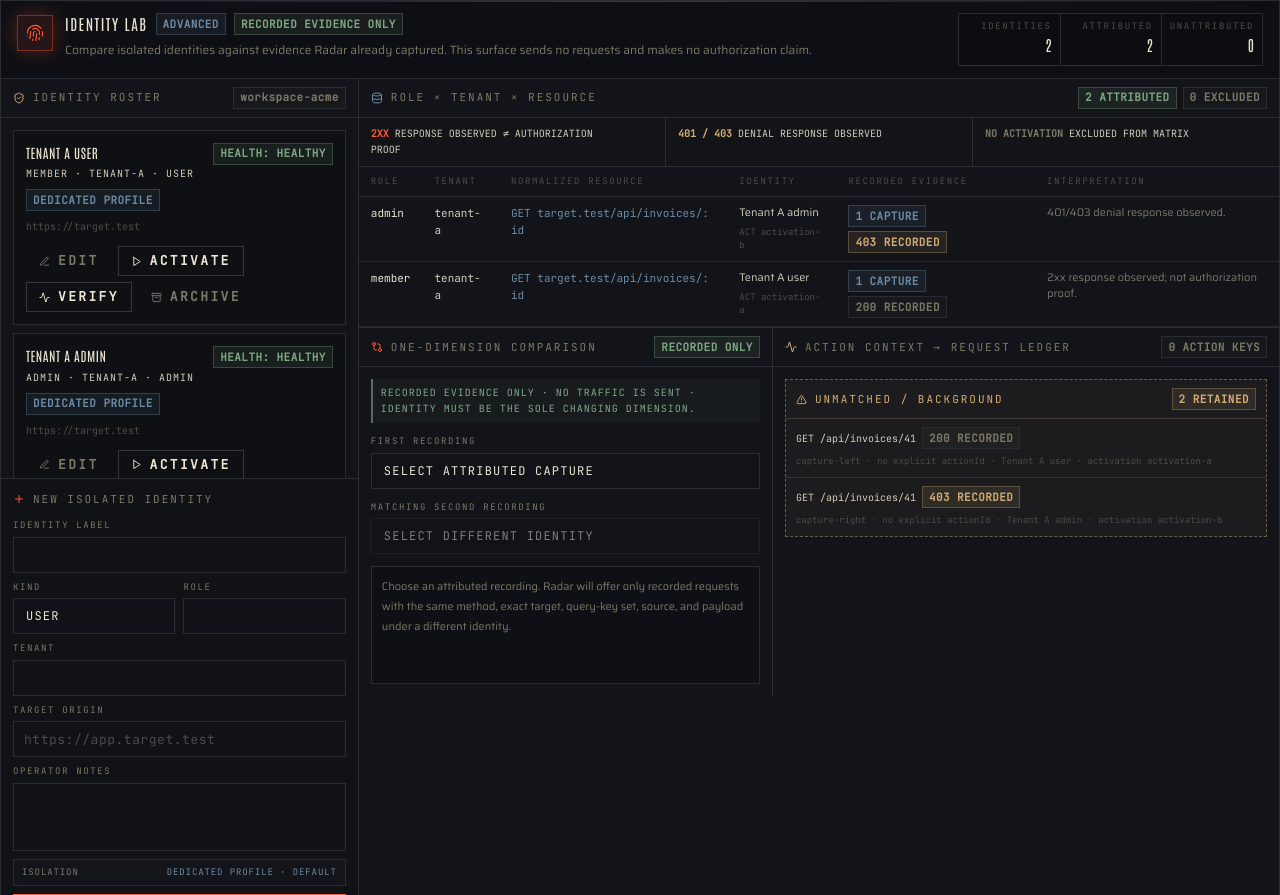
IdentityLab › compares matching recorded responses without drawing an authorization conclusion
Select "capture-left · Tenant A user · GET target.test/api/invoices/:id · 200 RECORDED" in the dropdown named "First recorded request": (565, 470) [371,452,760,488]
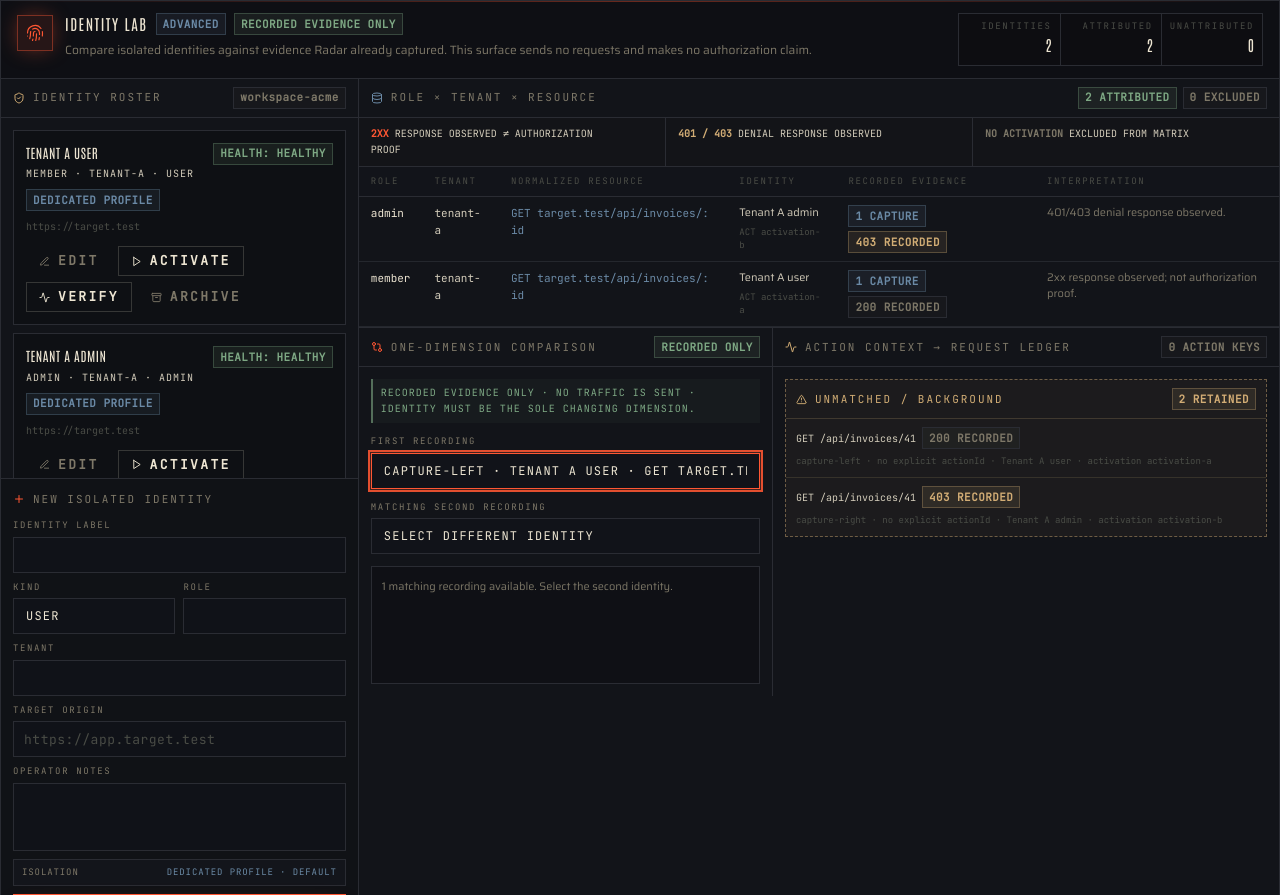
Select "capture-right · Tenant A admin · GET target.test/api/invoices/:id · 403 RECORDED" in the dropdown named "Matching recorded request": (565, 536) [371,518,760,554]
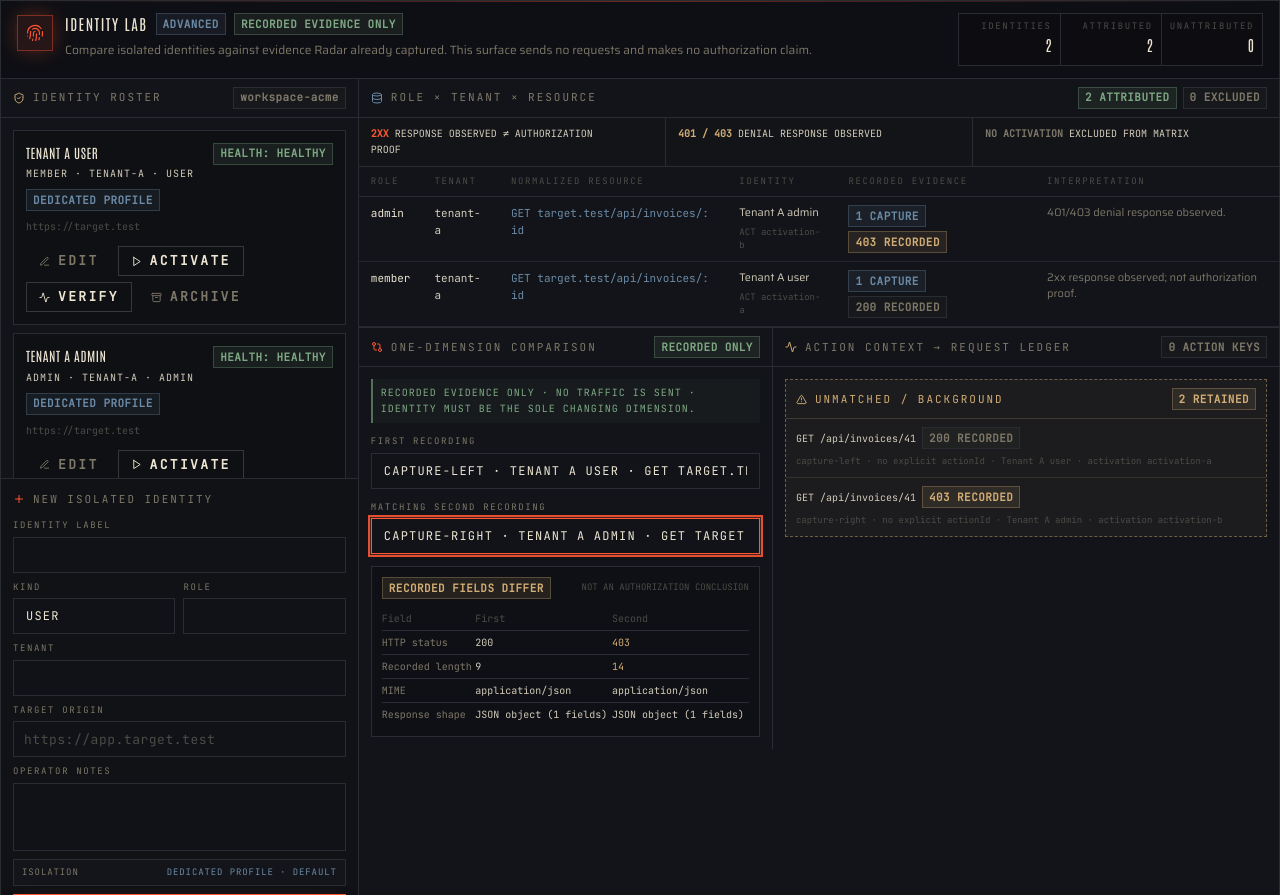
Check: the text "RECORDED FIELDS DIFFER" is shown, box [382,577,551,599]
Check: the text "NOT AN AUTHORIZATION CONCLUSION" is shown, box [582,581,749,595]
